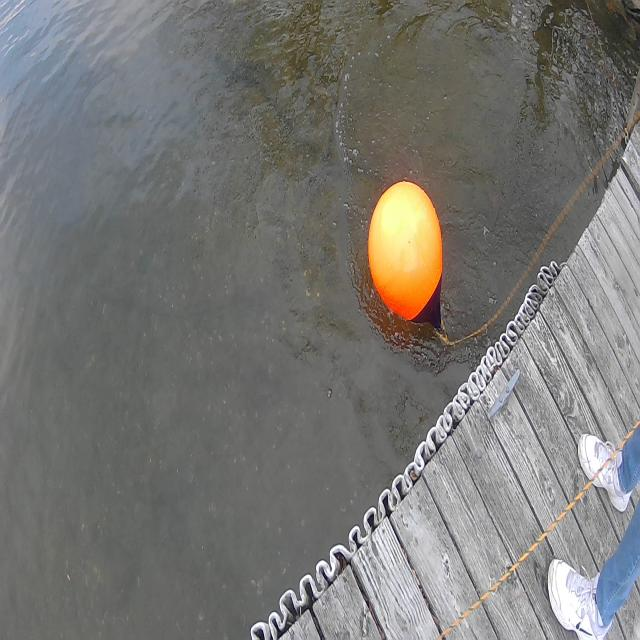Buoy: (362, 168, 454, 363)
